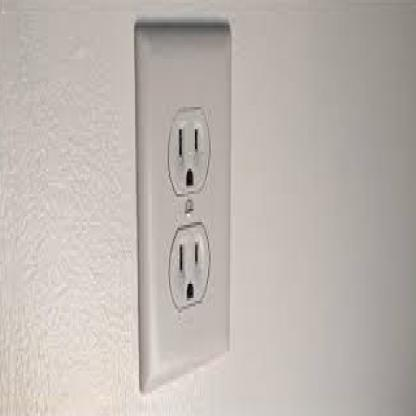OUTLET: (134, 23, 232, 377)
